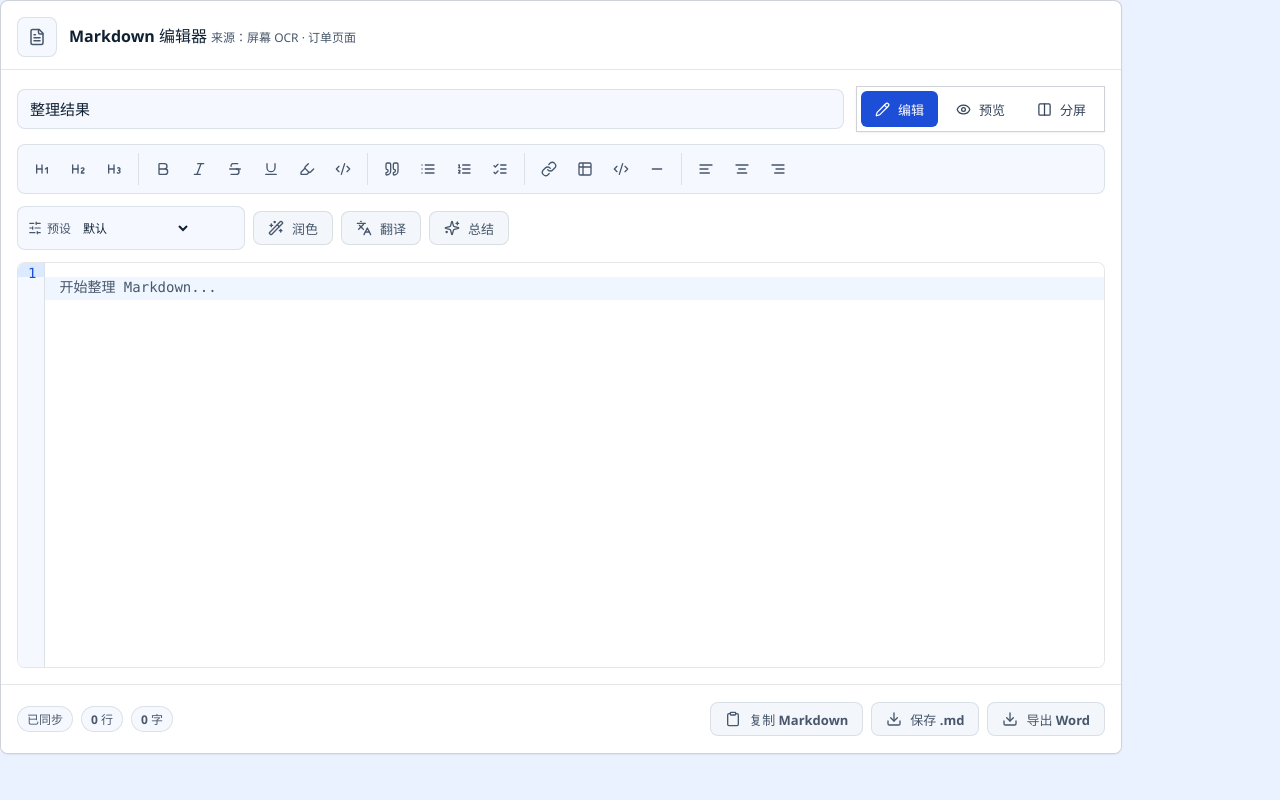
it: MarkdownEditorShell › applies toolbar actions to the current draft text
Click the button named "插入表格": (585, 169) top-left (569, 153), bottom-right (601, 185)
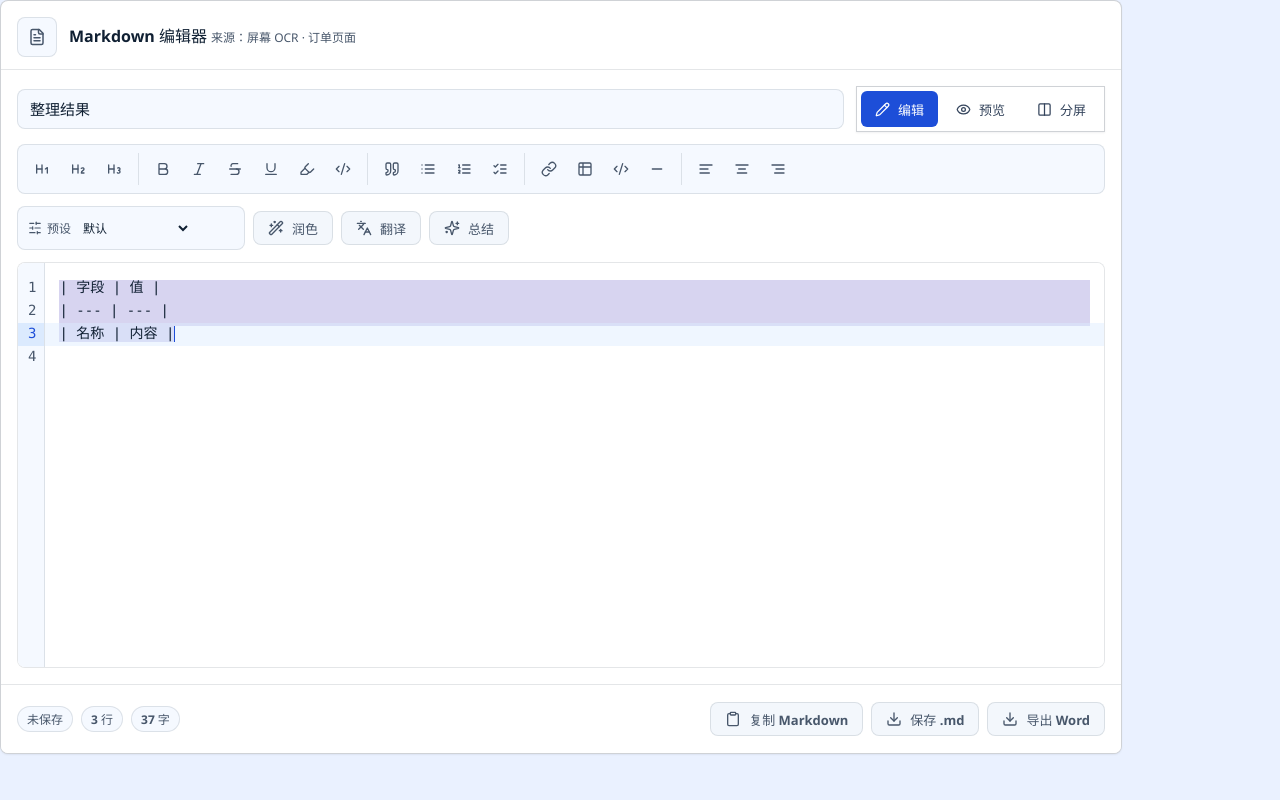
Expected: the text "未保存" is shown, top-left (17, 706), bottom-right (73, 732)
